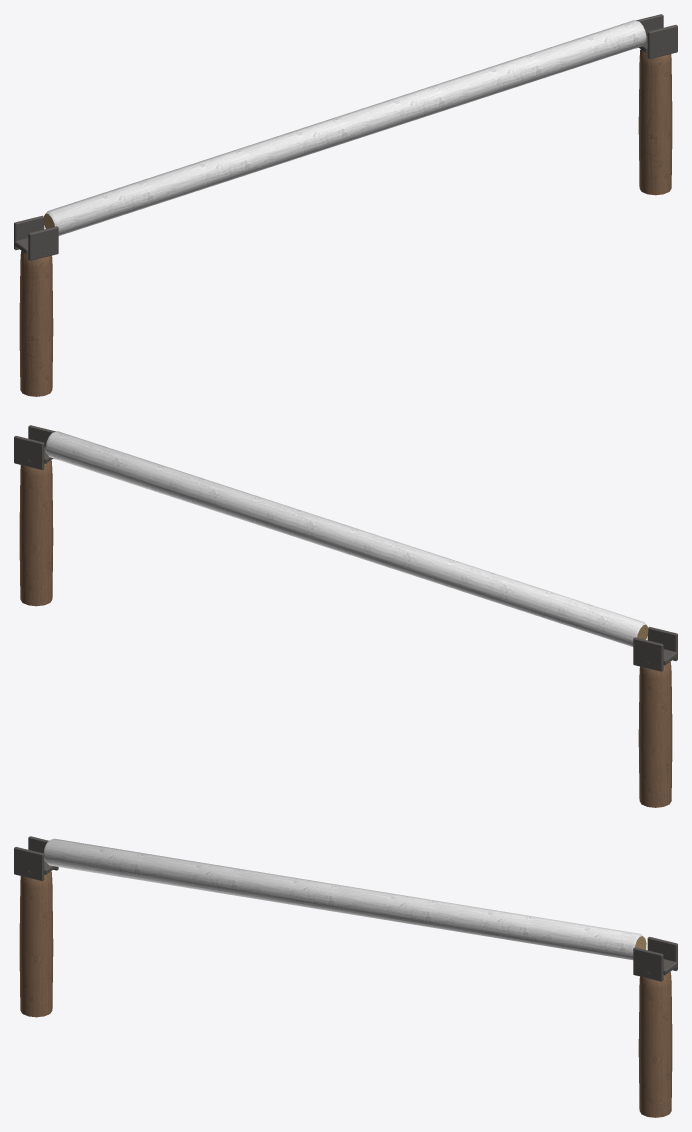
The model's file is timber-portable.glb.
3 views of the same model, one above another, from view 1: azimuth 30°, elevation 25°; view 2: azimuth 150°, elevation 25°; view 3: azimuth 330°, elevation 25° (orthographic).
Parts seen in each view (by area): view 1: timber.beam.beam.long-grain.0, timber.post.start.post.0, timber.post.end.post.0, timber.post.start.post.saddle-cheeks.2, timber.post.end.post.saddle-cheeks.2; view 2: timber.beam.beam.long-grain.0, timber.post.start.post.0, timber.post.end.post.0, timber.post.start.post.saddle-cheeks.2, timber.post.end.post.saddle-cheeks.2; view 3: timber.beam.beam.long-grain.0, timber.post.end.post.0, timber.post.start.post.0, timber.post.end.post.saddle-cheeks.2, timber.post.start.post.saddle-cheeks.2.
Boxes of the visible parts, box(x1,y1,x2,y2) form: timber.beam.beam.long-grain.0: box(46, 20, 646, 235); timber.post.start.post.0: box(19, 251, 53, 396); timber.post.end.post.0: box(638, 49, 672, 195); timber.post.start.post.saddle-cheeks.2: box(14, 215, 58, 260); timber.post.end.post.saddle-cheeks.2: box(635, 14, 677, 58); timber.beam.beam.long-grain.0: box(45, 431, 645, 646); timber.post.start.post.0: box(638, 662, 672, 807); timber.post.end.post.0: box(19, 460, 53, 606); timber.post.start.post.saddle-cheeks.2: box(633, 626, 677, 671); timber.post.end.post.saddle-cheeks.2: box(14, 425, 56, 469); timber.beam.beam.long-grain.0: box(43, 838, 642, 959); timber.post.end.post.0: box(638, 972, 672, 1117); timber.post.start.post.0: box(19, 871, 53, 1017); timber.post.end.post.saddle-cheeks.2: box(633, 936, 677, 981); timber.post.start.post.saddle-cheeks.2: box(14, 836, 58, 881).
Size of the model in its own units: 4.68 by 1.53 by 0.21.
Materials: 5 (1 with a texture image).
